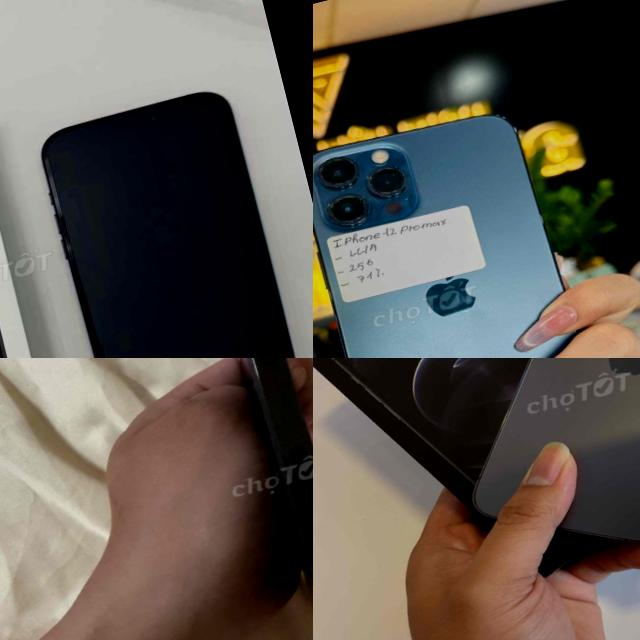gen_12_13: (313, 92, 626, 358), (407, 358, 640, 586)
gen_14: (182, 358, 313, 640)
gen_16: (22, 68, 313, 358)
